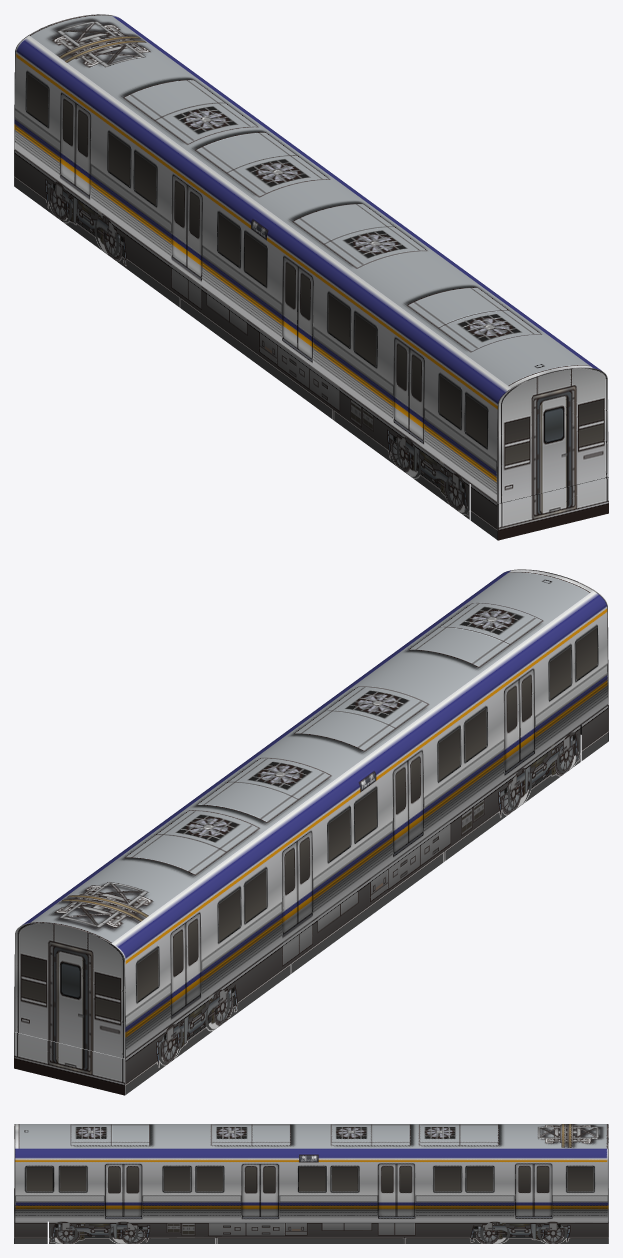
File: car2.glb
3 renders of one model, top to bottom at view 1: azimuth 30°, elevation 25°; view 2: azimuth 150°, elevation 25°; view 3: azimuth 270°, elevation 25°, orthographic. The views are drawn at different scales.
Visible parts, largest first — view 1: nankai-9000-car2; view 2: nankai-9000-car2; view 3: nankai-9000-car2.
Boxes of the visible parts, left/top/right/bottom form: nankai-9000-car2: left=14, top=14, right=608, bottom=540; nankai-9000-car2: left=14, top=569, right=608, bottom=1095; nankai-9000-car2: left=14, top=1124, right=608, bottom=1243.
Bounding box in the file's own units: 2.74 × 3.65 × 20.73.
Materials: 9 (8 with a texture image).
